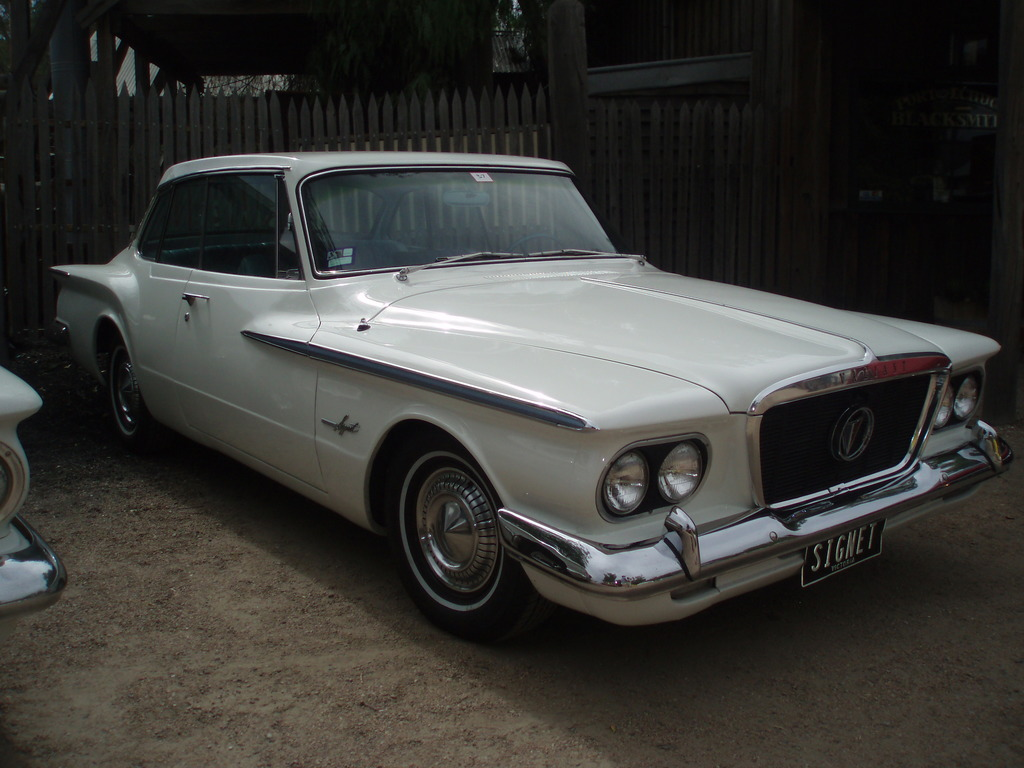Car: (46, 166, 1000, 639), (0, 362, 67, 615)
